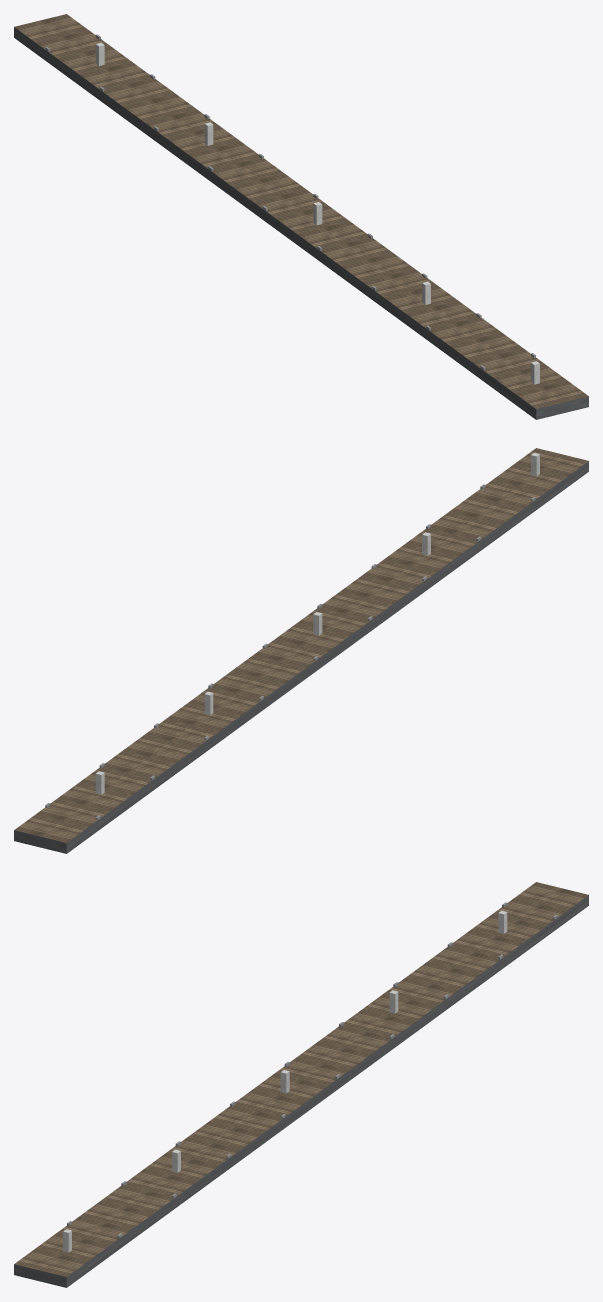
Rendered from SM_Mirabello_Pontile_LOD1.fbx.
3 renders of one model, top to bottom at view 1: azimuth 30°, elevation 25°; view 2: azimuth 150°, elevation 25°; view 3: azimuth 330°, elevation 25°, orthographic.
Parts seen in each view (by area): view 1: SM_Mirabello_Pontile_LOD1; view 2: SM_Mirabello_Pontile_LOD1; view 3: SM_Mirabello_Pontile_LOD1.
Part boxes in pixels (x1,y1,x2,y2): SM_Mirabello_Pontile_LOD1: (14, 14, 588, 419); SM_Mirabello_Pontile_LOD1: (14, 448, 588, 853); SM_Mirabello_Pontile_LOD1: (14, 882, 588, 1287).
Size of the model in its own units: 280 by 4800 by 155.
2 materials, 2 textured.
